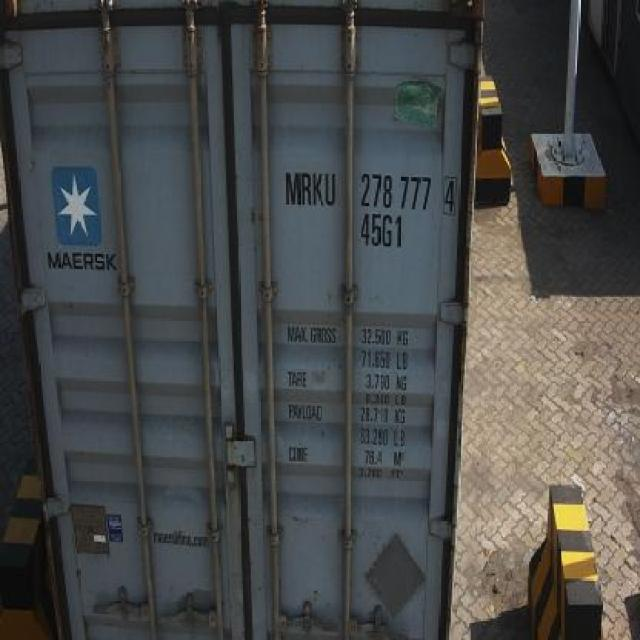ISO: (361, 214, 404, 248)
container_number: (280, 176, 459, 212)
